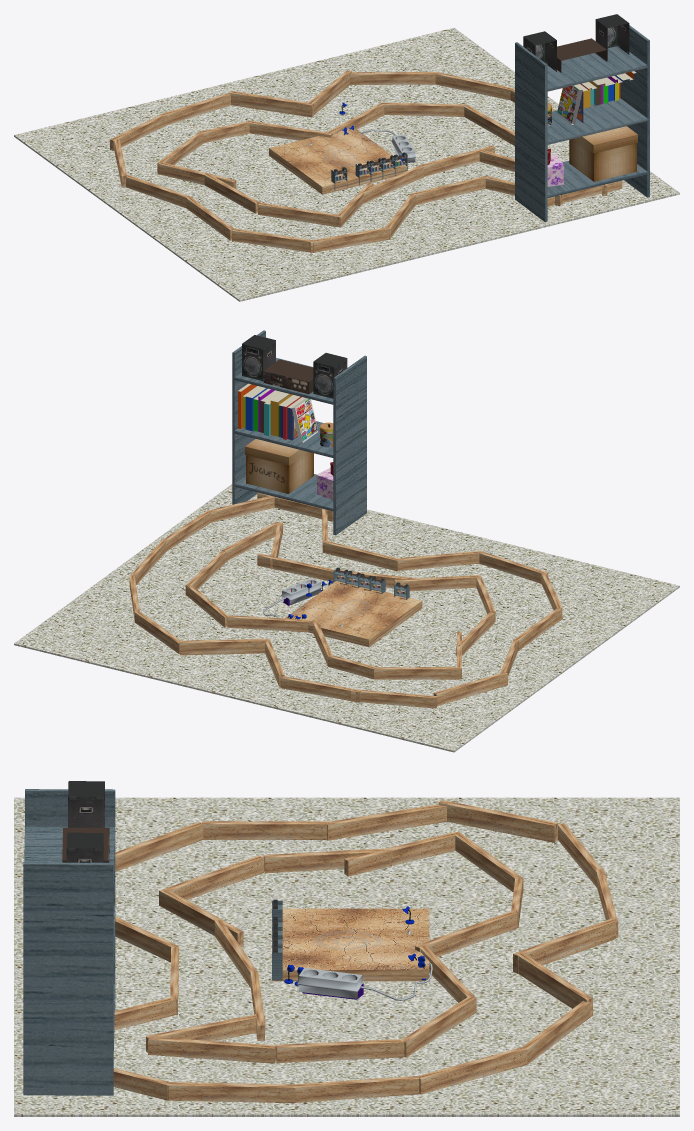
The model's file is CircuitoBasico03Experimen.DAE.
The picture shows the model from 3 angles, top to bottom: view 1: azimuth 30°, elevation 25°; view 2: azimuth 150°, elevation 25°; view 3: azimuth 270°, elevation 25°; orthographic projection. The views are drawn at different scales.
Parts seen in each view (by area): view 1: Box_Suelo, Objeto_Estanteria002, Box_Lateral_005, Box_Lateral_018, Box_Lateral_017, Box_Lateral_008, Box_Lateral_006, Box_Lateral_023, Box_Lateral_030, Box_Lateral_016, Box_Lateral_010, Box_Lateral_021 (+19 smaller); view 2: Box_Suelo, Objeto_Estanteria002, Box_Lateral_005, Box_Lateral_004, Box_Lateral_033, Box_Lateral_009, Box_Lateral_022, Box_Lateral_035, Box_Lateral_01, Box_Lateral_010, Box_Lateral_019, Box_Lateral_027 (+10 smaller); view 3: Box_Suelo, Objeto_Estanteria002, Box_Lateral_005, Box_Lateral_014, Box_Lateral_024, Box_Lateral_025, Box_Lateral_015, Box_Lateral_01, Box_Lateral_02, Box_Lateral_003, Box_Lateral_016, Box_Lateral_032 (+20 smaller).
Boxes of the visible parts, box(x1,y1,x2,y2) form: Box_Suelo: box(14, 28, 679, 301); Objeto_Estanteria002: box(515, 14, 649, 221); Box_Lateral_005: box(269, 127, 406, 194); Box_Lateral_018: box(230, 91, 313, 117); Box_Lateral_017: box(350, 72, 435, 84); Box_Lateral_008: box(309, 227, 390, 253); Box_Lateral_006: box(232, 228, 315, 252); Box_Lateral_023: box(381, 102, 467, 116); Box_Lateral_030: box(258, 202, 340, 226); Box_Lateral_016: box(434, 72, 514, 100); Box_Lateral_010: box(410, 175, 488, 205); Box_Lateral_021: box(249, 121, 332, 140); Box_Suelo: box(14, 484, 679, 752); Objeto_Estanteria002: box(232, 330, 366, 535); Box_Lateral_005: box(285, 581, 422, 646); Box_Lateral_004: box(179, 639, 266, 655); Box_Lateral_033: box(374, 667, 460, 679); Box_Lateral_009: box(396, 551, 481, 570); Box_Lateral_022: box(227, 615, 313, 632); Box_Lateral_035: box(351, 689, 437, 708); Box_Lateral_01: box(433, 672, 507, 705); Box_Lateral_010: box(322, 540, 399, 571); Box_Lateral_019: box(280, 676, 361, 702); Box_Lateral_027: box(257, 553, 334, 581); Box_Suelo: box(14, 797, 679, 1116); Objeto_Estanteria002: box(23, 781, 115, 1095); Box_Lateral_005: box(272, 908, 429, 981); Box_Lateral_014: box(167, 1082, 295, 1103); Box_Lateral_024: box(276, 1039, 404, 1063); Box_Lateral_025: box(148, 1037, 275, 1063); Box_Lateral_015: box(292, 1076, 419, 1102); Box_Lateral_01: box(438, 800, 557, 842); Box_Lateral_02: box(202, 821, 329, 839); Box_Lateral_003: box(325, 804, 446, 840); Box_Lateral_016: box(418, 1047, 527, 1094); Box_Lateral_032: box(344, 831, 458, 876).
Size of the model in its own units: 155 by 138 by 57.76.
